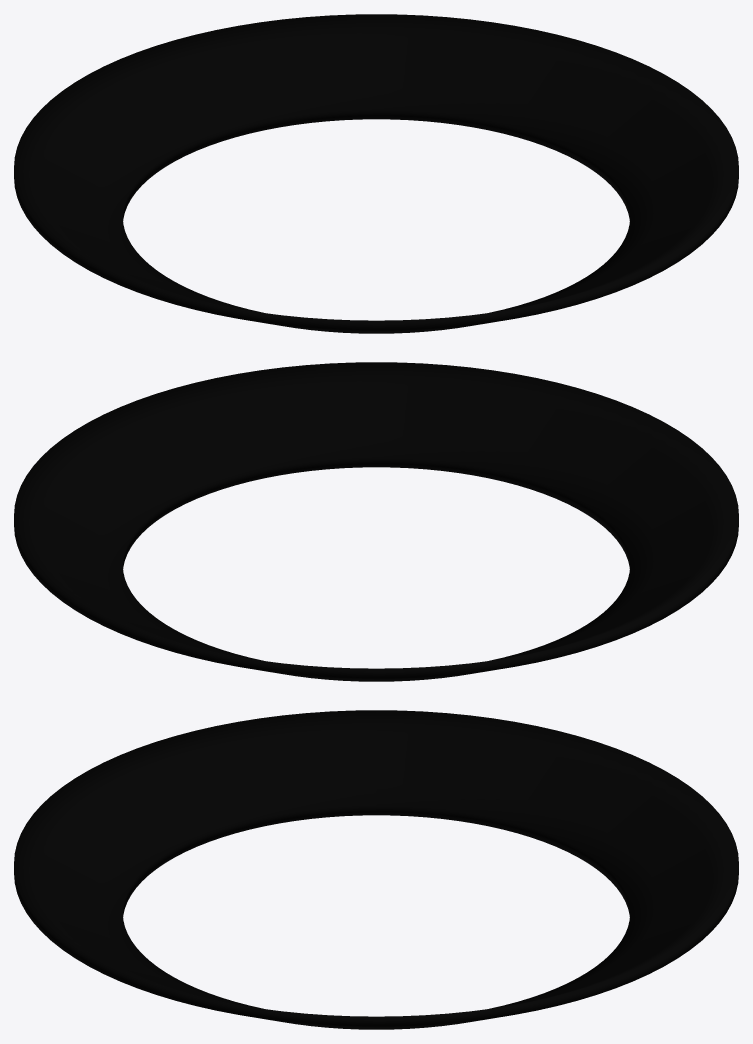
The model's file is ShockRing.fbx.
3 views of the same model, one above another, from view 1: azimuth 30°, elevation 25°; view 2: azimuth 150°, elevation 25°; view 3: azimuth 270°, elevation 25° (orthographic).
Parts seen in each view (by area): view 1: ShockRing; view 2: ShockRing; view 3: ShockRing.
Boxes of the visible parts, x1,y1,x2,y2 form: ShockRing: (14,14,738,333); ShockRing: (14,362,738,681); ShockRing: (14,710,738,1029).
Bounding box in the file's own units: 2 × 0.18 × 2.
1 material, 1 textured.
